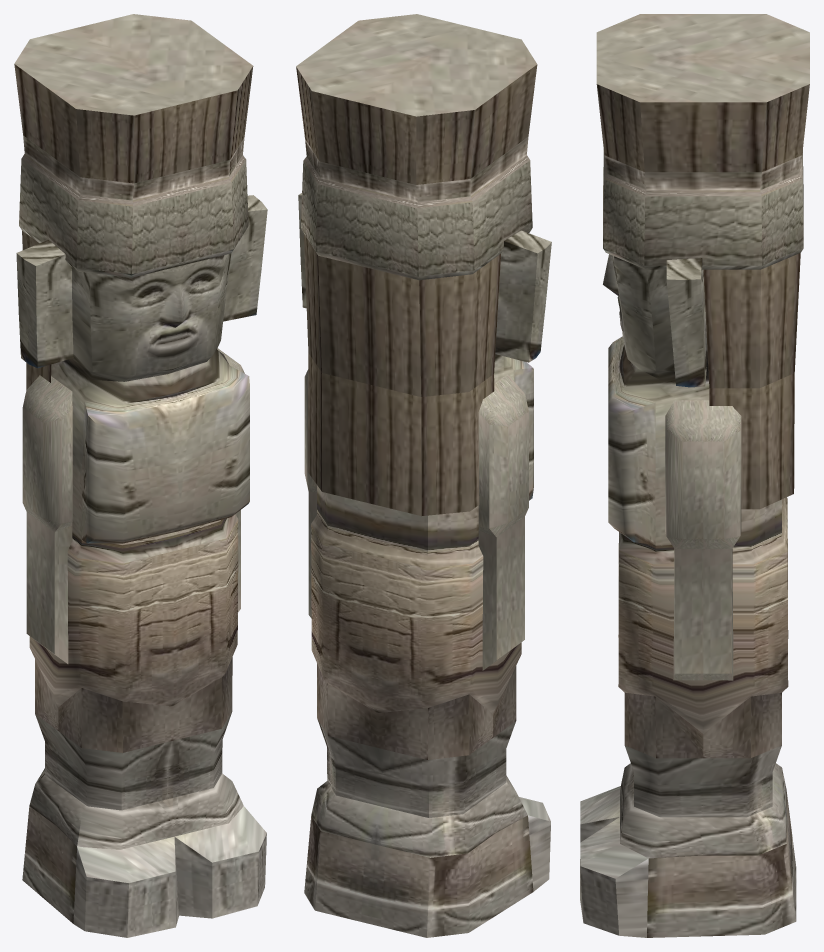
File: statue.glb
3 views of the same model, side by side, from view 1: azimuth 30°, elevation 25°; view 2: azimuth 150°, elevation 25°; view 3: azimuth 270°, elevation 25° (orthographic). The views are drawn at different scales.
Visible parts, largest first — view 1: Cube.030; view 2: Cube.030; view 3: Cube.030.
Part boxes in pixels (x1,y1,x2,y2): Cube.030: [14, 14, 267, 937]; Cube.030: [296, 14, 551, 937]; Cube.030: [580, 14, 809, 937].
Size of the model in its own units: 2.63 by 8.66 by 2.16.
Materials: 1 (1 with a texture image).
